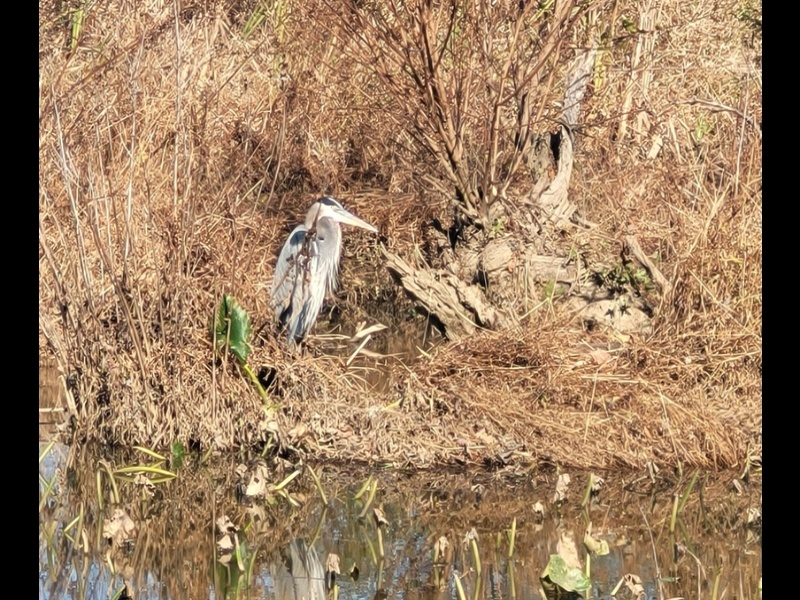heron: (266, 190, 378, 346)
